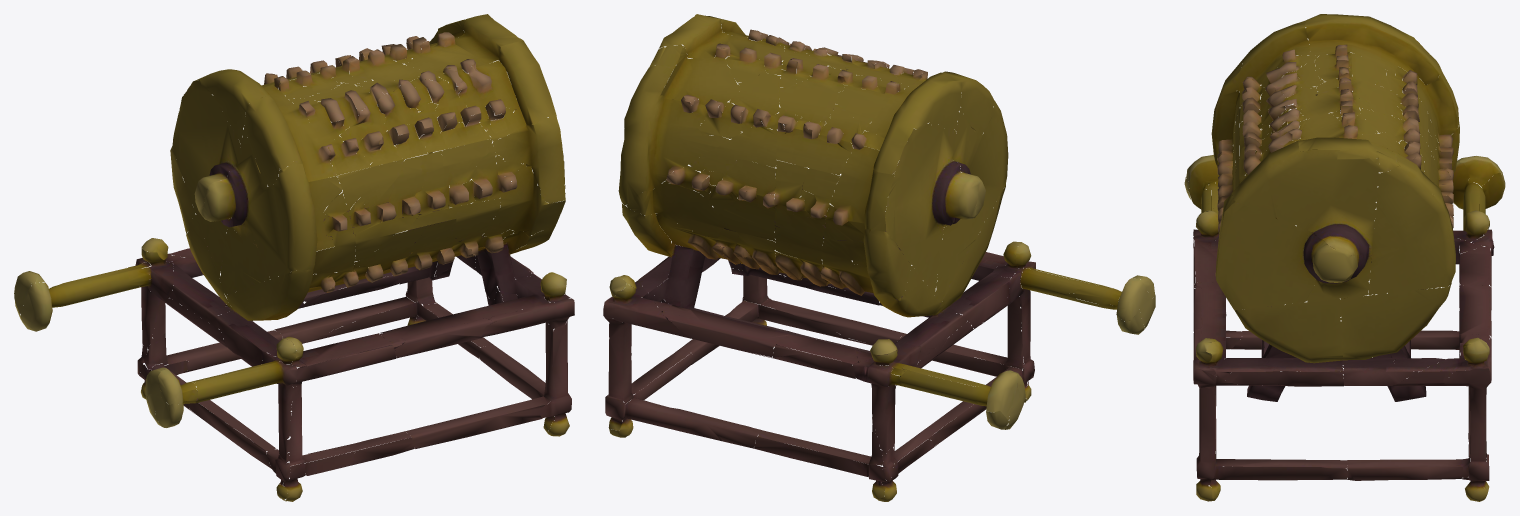
The model's file is Prop_MusicBox_Cylinder.glb.
3 renders of one model, left to right at view 1: azimuth 30°, elevation 25°; view 2: azimuth 150°, elevation 25°; view 3: azimuth 270°, elevation 25°, orthographic.
Parts seen in each view (by area): view 1: tripo_node_22c34278-c8b1-430a-8090-934cd9dc237c; view 2: tripo_node_22c34278-c8b1-430a-8090-934cd9dc237c; view 3: tripo_node_22c34278-c8b1-430a-8090-934cd9dc237c.
Boxes of the visible parts, x1,y1,x2,y2 form: tripo_node_22c34278-c8b1-430a-8090-934cd9dc237c: (14,14,574,501); tripo_node_22c34278-c8b1-430a-8090-934cd9dc237c: (603,14,1155,501); tripo_node_22c34278-c8b1-430a-8090-934cd9dc237c: (1184,14,1505,501).
Bounding box in the file's own units: 1 × 0.7993 × 0.6375.
Materials: 1 (1 with a texture image).
